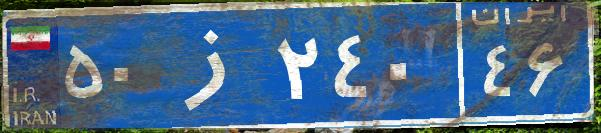0: (385, 28, 445, 110), (110, 28, 158, 105)
2: (273, 28, 330, 110)
4: (330, 28, 385, 110), (475, 38, 525, 113)
5: (57, 26, 110, 107)
6: (525, 38, 570, 115)
ز: (158, 15, 273, 115)
